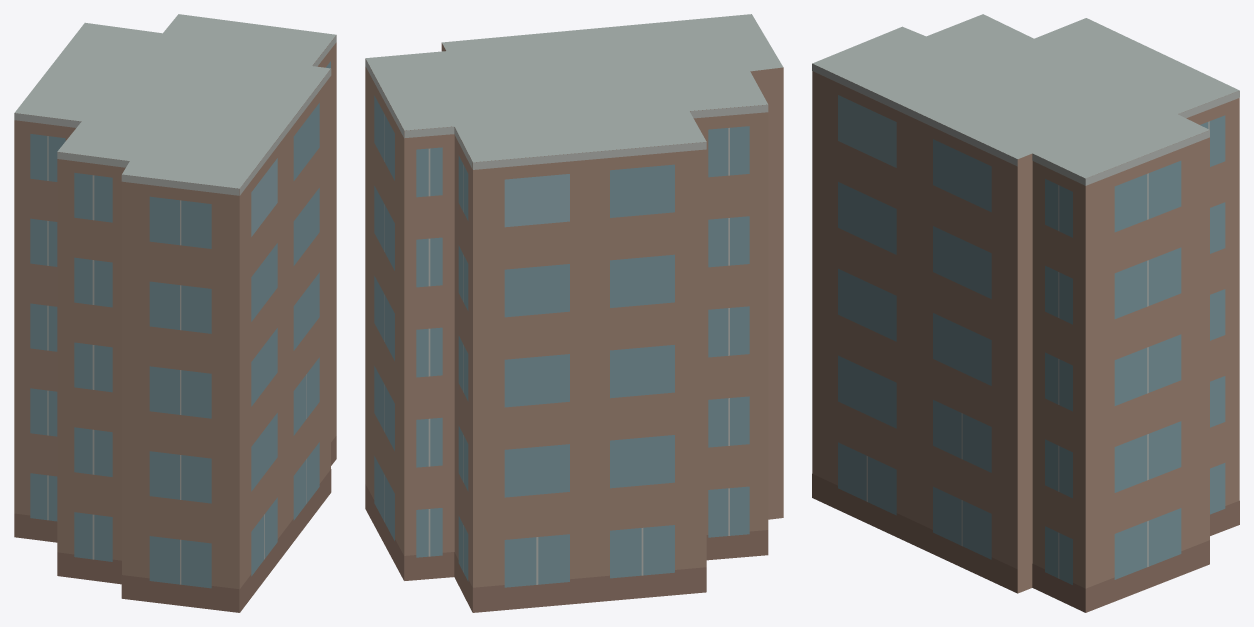
Rendered from survey-upis-32786997.glb.
3 renders of one model, left to right at view 1: azimuth 30°, elevation 25°; view 2: azimuth 150°, elevation 25°; view 3: azimuth 270°, elevation 25°, orthographic. The views are drawn at different scales.
Parts seen in each view (by area): view 1: survey-upis-32786997.tmp; view 2: survey-upis-32786997.tmp; view 3: survey-upis-32786997.tmp.
Part boxes in pixels (x1,y1,x2,y2): survey-upis-32786997.tmp: (14, 14, 336, 612); survey-upis-32786997.tmp: (365, 14, 783, 612); survey-upis-32786997.tmp: (812, 14, 1239, 612).
Bounding box in the file's own units: 11.71 × 14.4 × 12.86.
